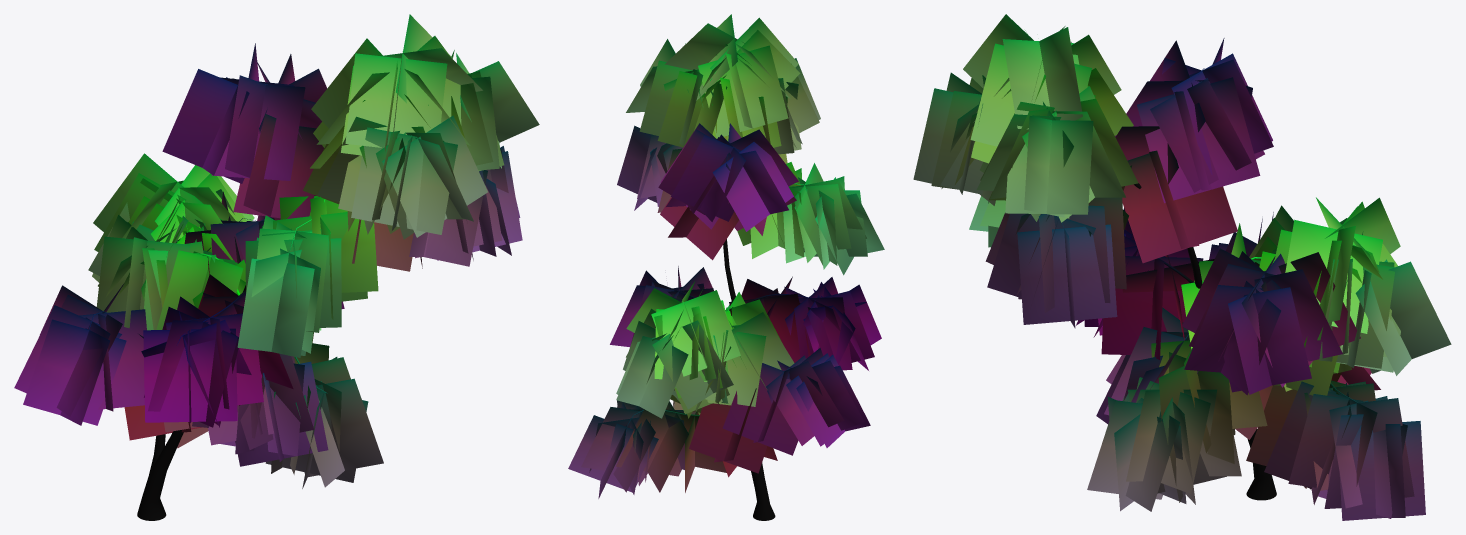
The model's file is URP_P13_Tree_8_LOD_0.fbx.
The picture shows the model from 3 angles, left to right: view 1: azimuth 30°, elevation 25°; view 2: azimuth 150°, elevation 25°; view 3: azimuth 270°, elevation 25°; orthographic projection. The views are drawn at different scales.
Parts seen in each view (by area): view 1: Tree_8_LOD_0; view 2: Tree_8_LOD_0; view 3: Tree_8_LOD_0.
Boxes of the visible parts, left/top/right/bottom form: Tree_8_LOD_0: left=14, top=14, right=539, bottom=520; Tree_8_LOD_0: left=568, top=14, right=884, bottom=520; Tree_8_LOD_0: left=913, top=14, right=1451, bottom=520.
Size of the model in its own units: 547 by 669 by 592.
